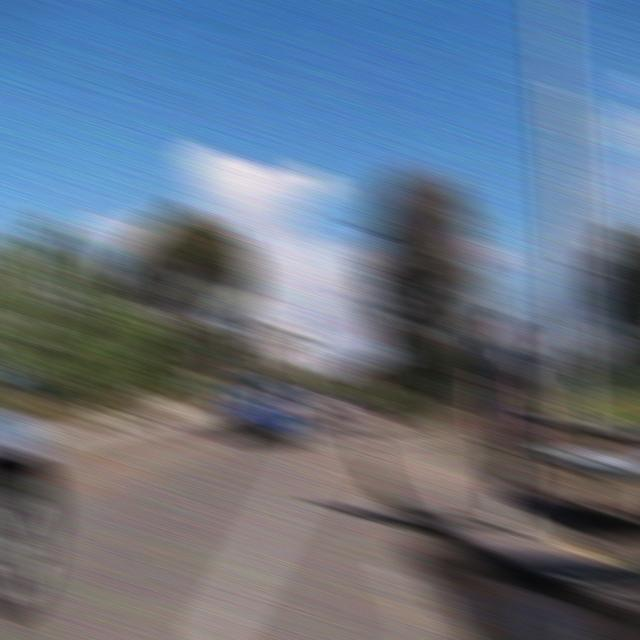stop: (352, 365, 378, 384)
